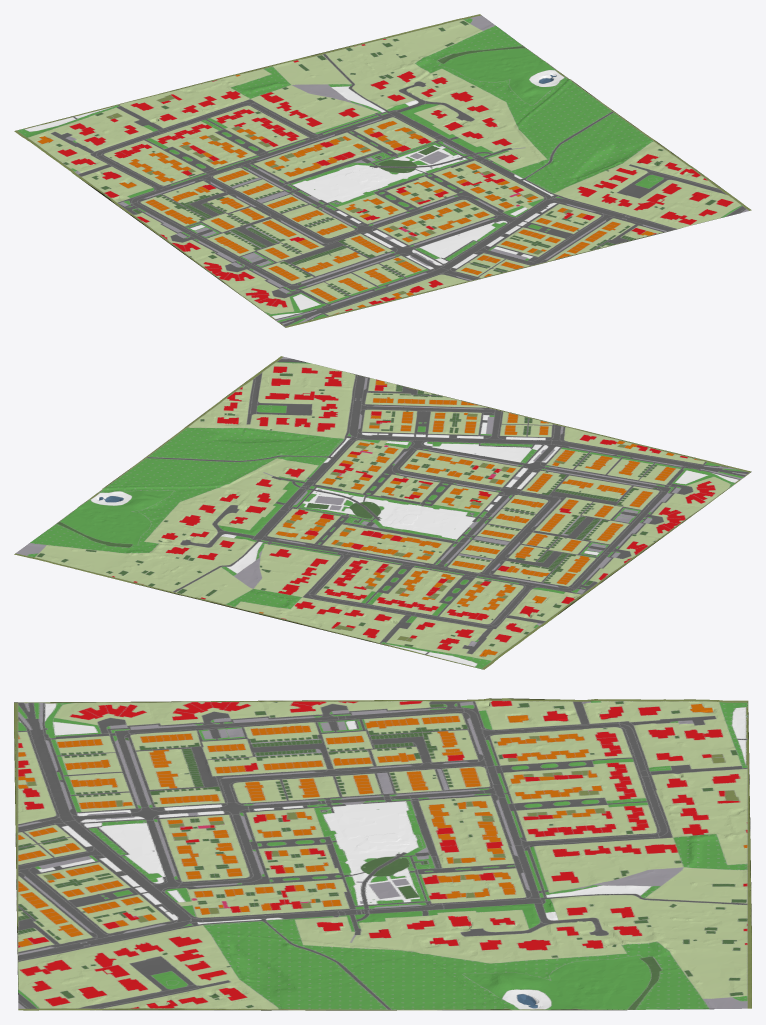
The model's file is Terrain.fbx.
3 views of the same model, one above another, from view 1: azimuth 30°, elevation 25°; view 2: azimuth 150°, elevation 25°; view 3: azimuth 270°, elevation 25° (orthographic). The views are drawn at different scales.
Size of the model in its own units: 504 by 502 by 4.42.
1 material, 1 textured.
